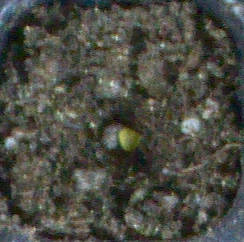chilli seed: (119, 127, 141, 151)
